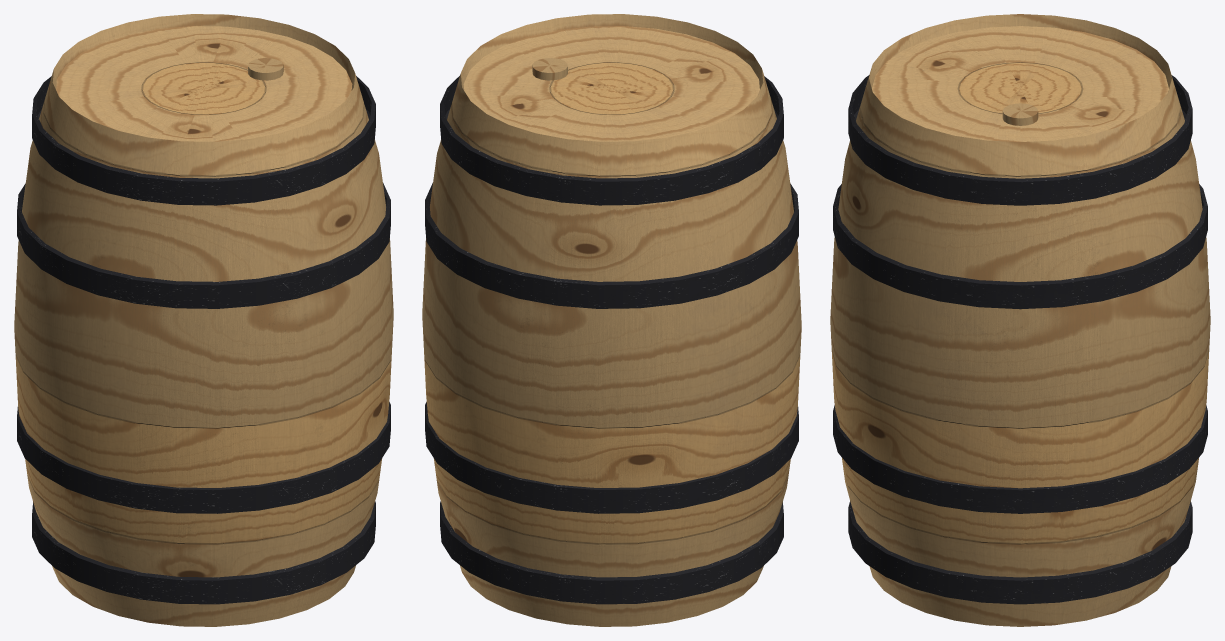
Rendered from SM_QUE_Barrel.fbx.
3 renders of one model, left to right at view 1: azimuth 30°, elevation 25°; view 2: azimuth 150°, elevation 25°; view 3: azimuth 270°, elevation 25°, orthographic.
Parts seen in each view (by area): view 1: SM_QUE_Barrel; view 2: SM_QUE_Barrel; view 3: SM_QUE_Barrel.
Part boxes in pixels (x1,y1,x2,y2): SM_QUE_Barrel: [14, 14, 393, 626]; SM_QUE_Barrel: [422, 14, 801, 626]; SM_QUE_Barrel: [830, 14, 1210, 626].
Bounding box in the file's own units: 0.64 × 0.9 × 0.64.
